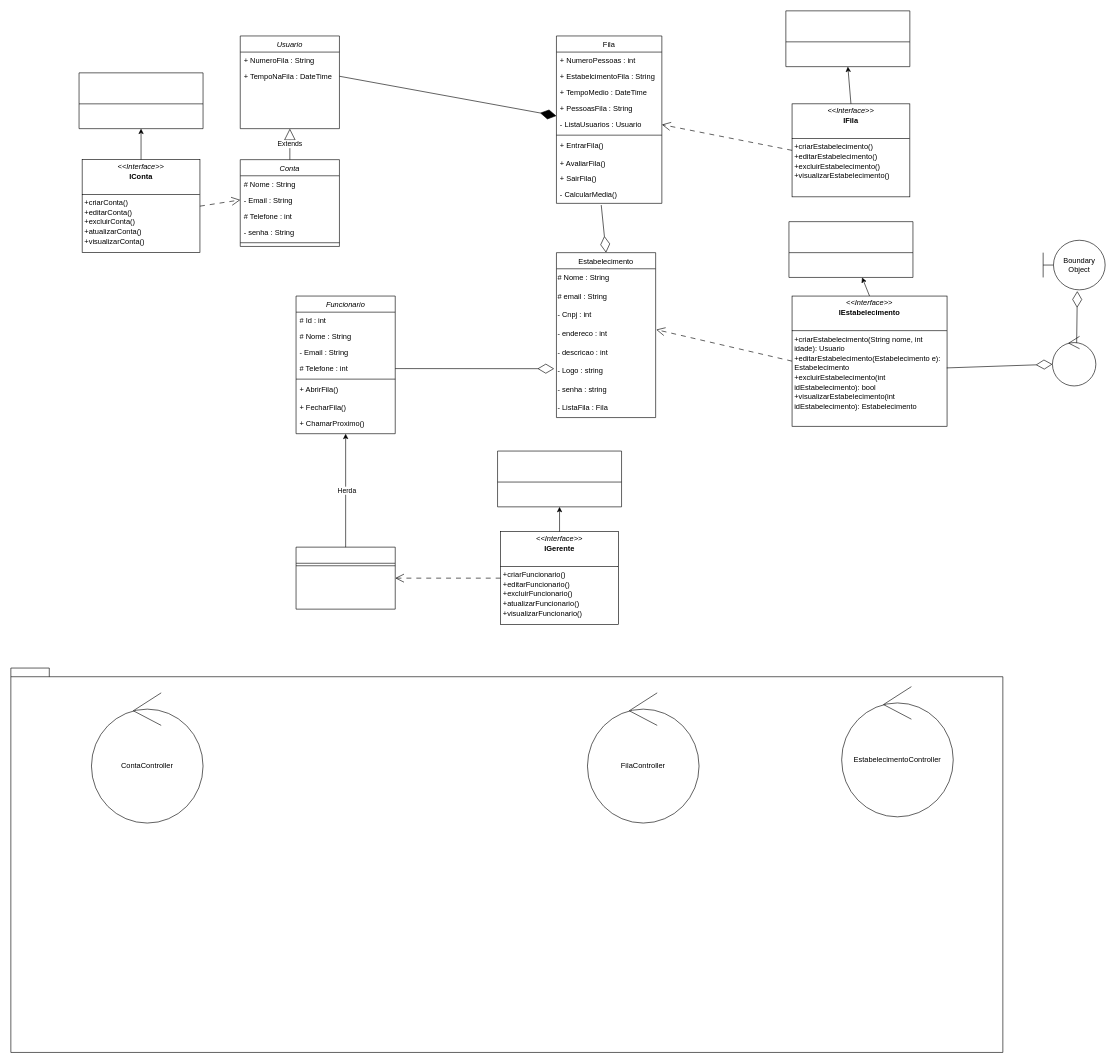
Image size: 1116x1063. Some labels were removed from this diagram. Here are the shapes that lost their labels. From the top down, the centre of each, then its label:
At pixel 847 38: "FilaDAOImpl".
At pixel 140 100: "ContaDAOImpl".
At pixel 850 249: "EstbelecimentoDAOImpl".
At pixel 1074 361: "Control Object".
At pixel 559 478: "GereneteDAOImpl".
At pixel 345 578: "Gerente".
